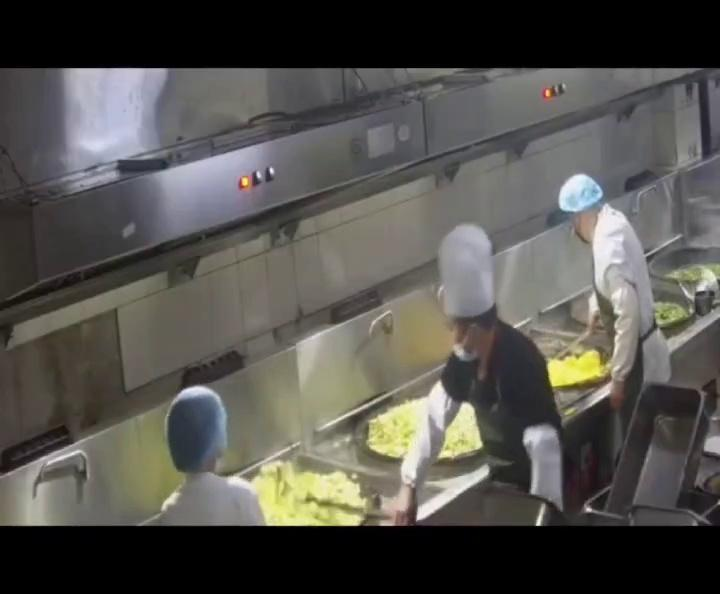gloves: (164, 386, 227, 471), (558, 173, 604, 214)
mask: (448, 332, 485, 367)
